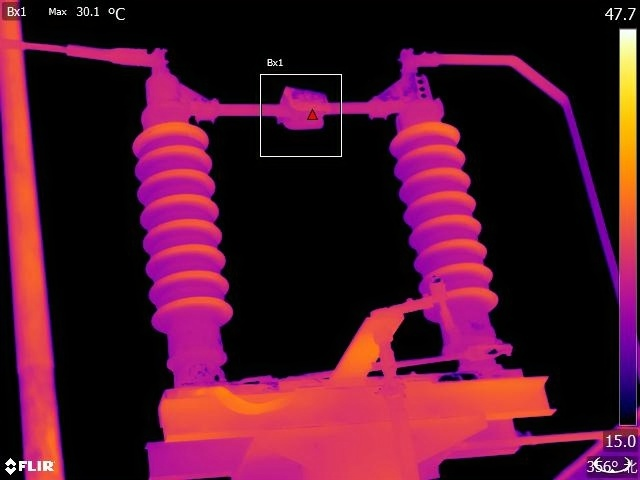post insulator: (128, 112, 247, 343), (382, 115, 512, 325)
switch: (128, 53, 459, 142)
